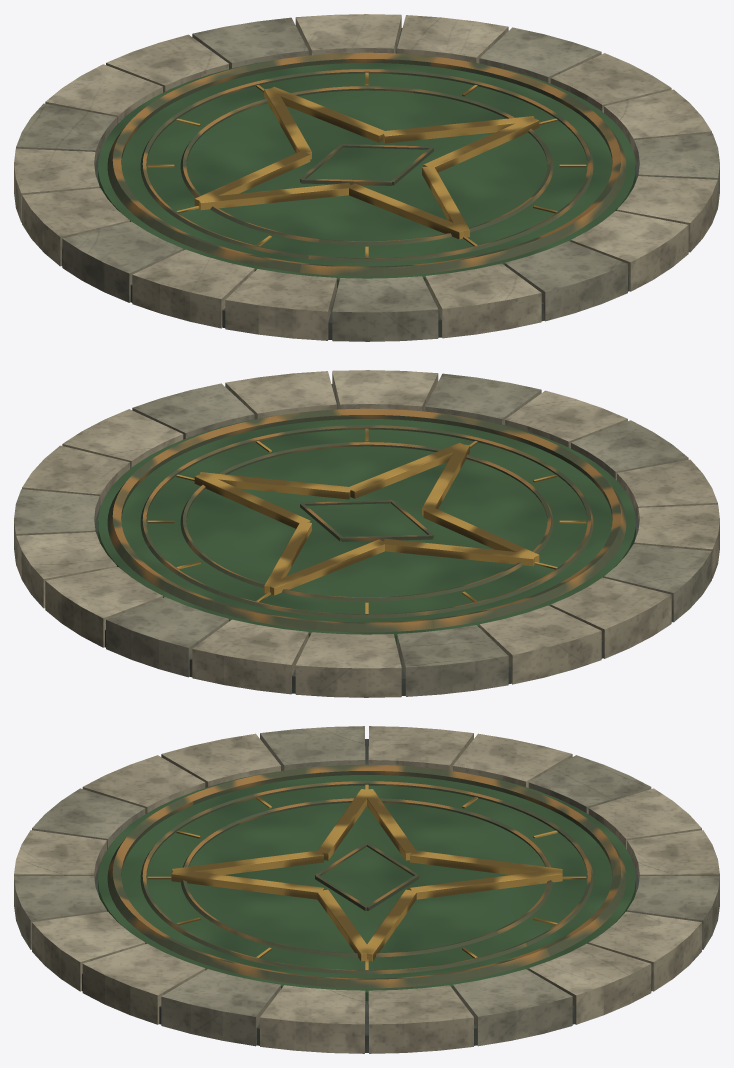
The model's file is b07_teleport_base.fbx.
The picture shows the model from 3 angles, top to bottom: view 1: azimuth 30°, elevation 25°; view 2: azimuth 150°, elevation 25°; view 3: azimuth 270°, elevation 25°; orthographic projection.
Parts seen in each view (by area): view 1: b07_teleport_base; view 2: b07_teleport_base; view 3: b07_teleport_base.
Boxes of the visible parts, x1,y1,x2,y2 form: b07_teleport_base: [14, 14, 719, 341]; b07_teleport_base: [14, 370, 719, 697]; b07_teleport_base: [14, 726, 719, 1053].
Bounding box in the file's own units: 36999 × 36999 × 1925.
